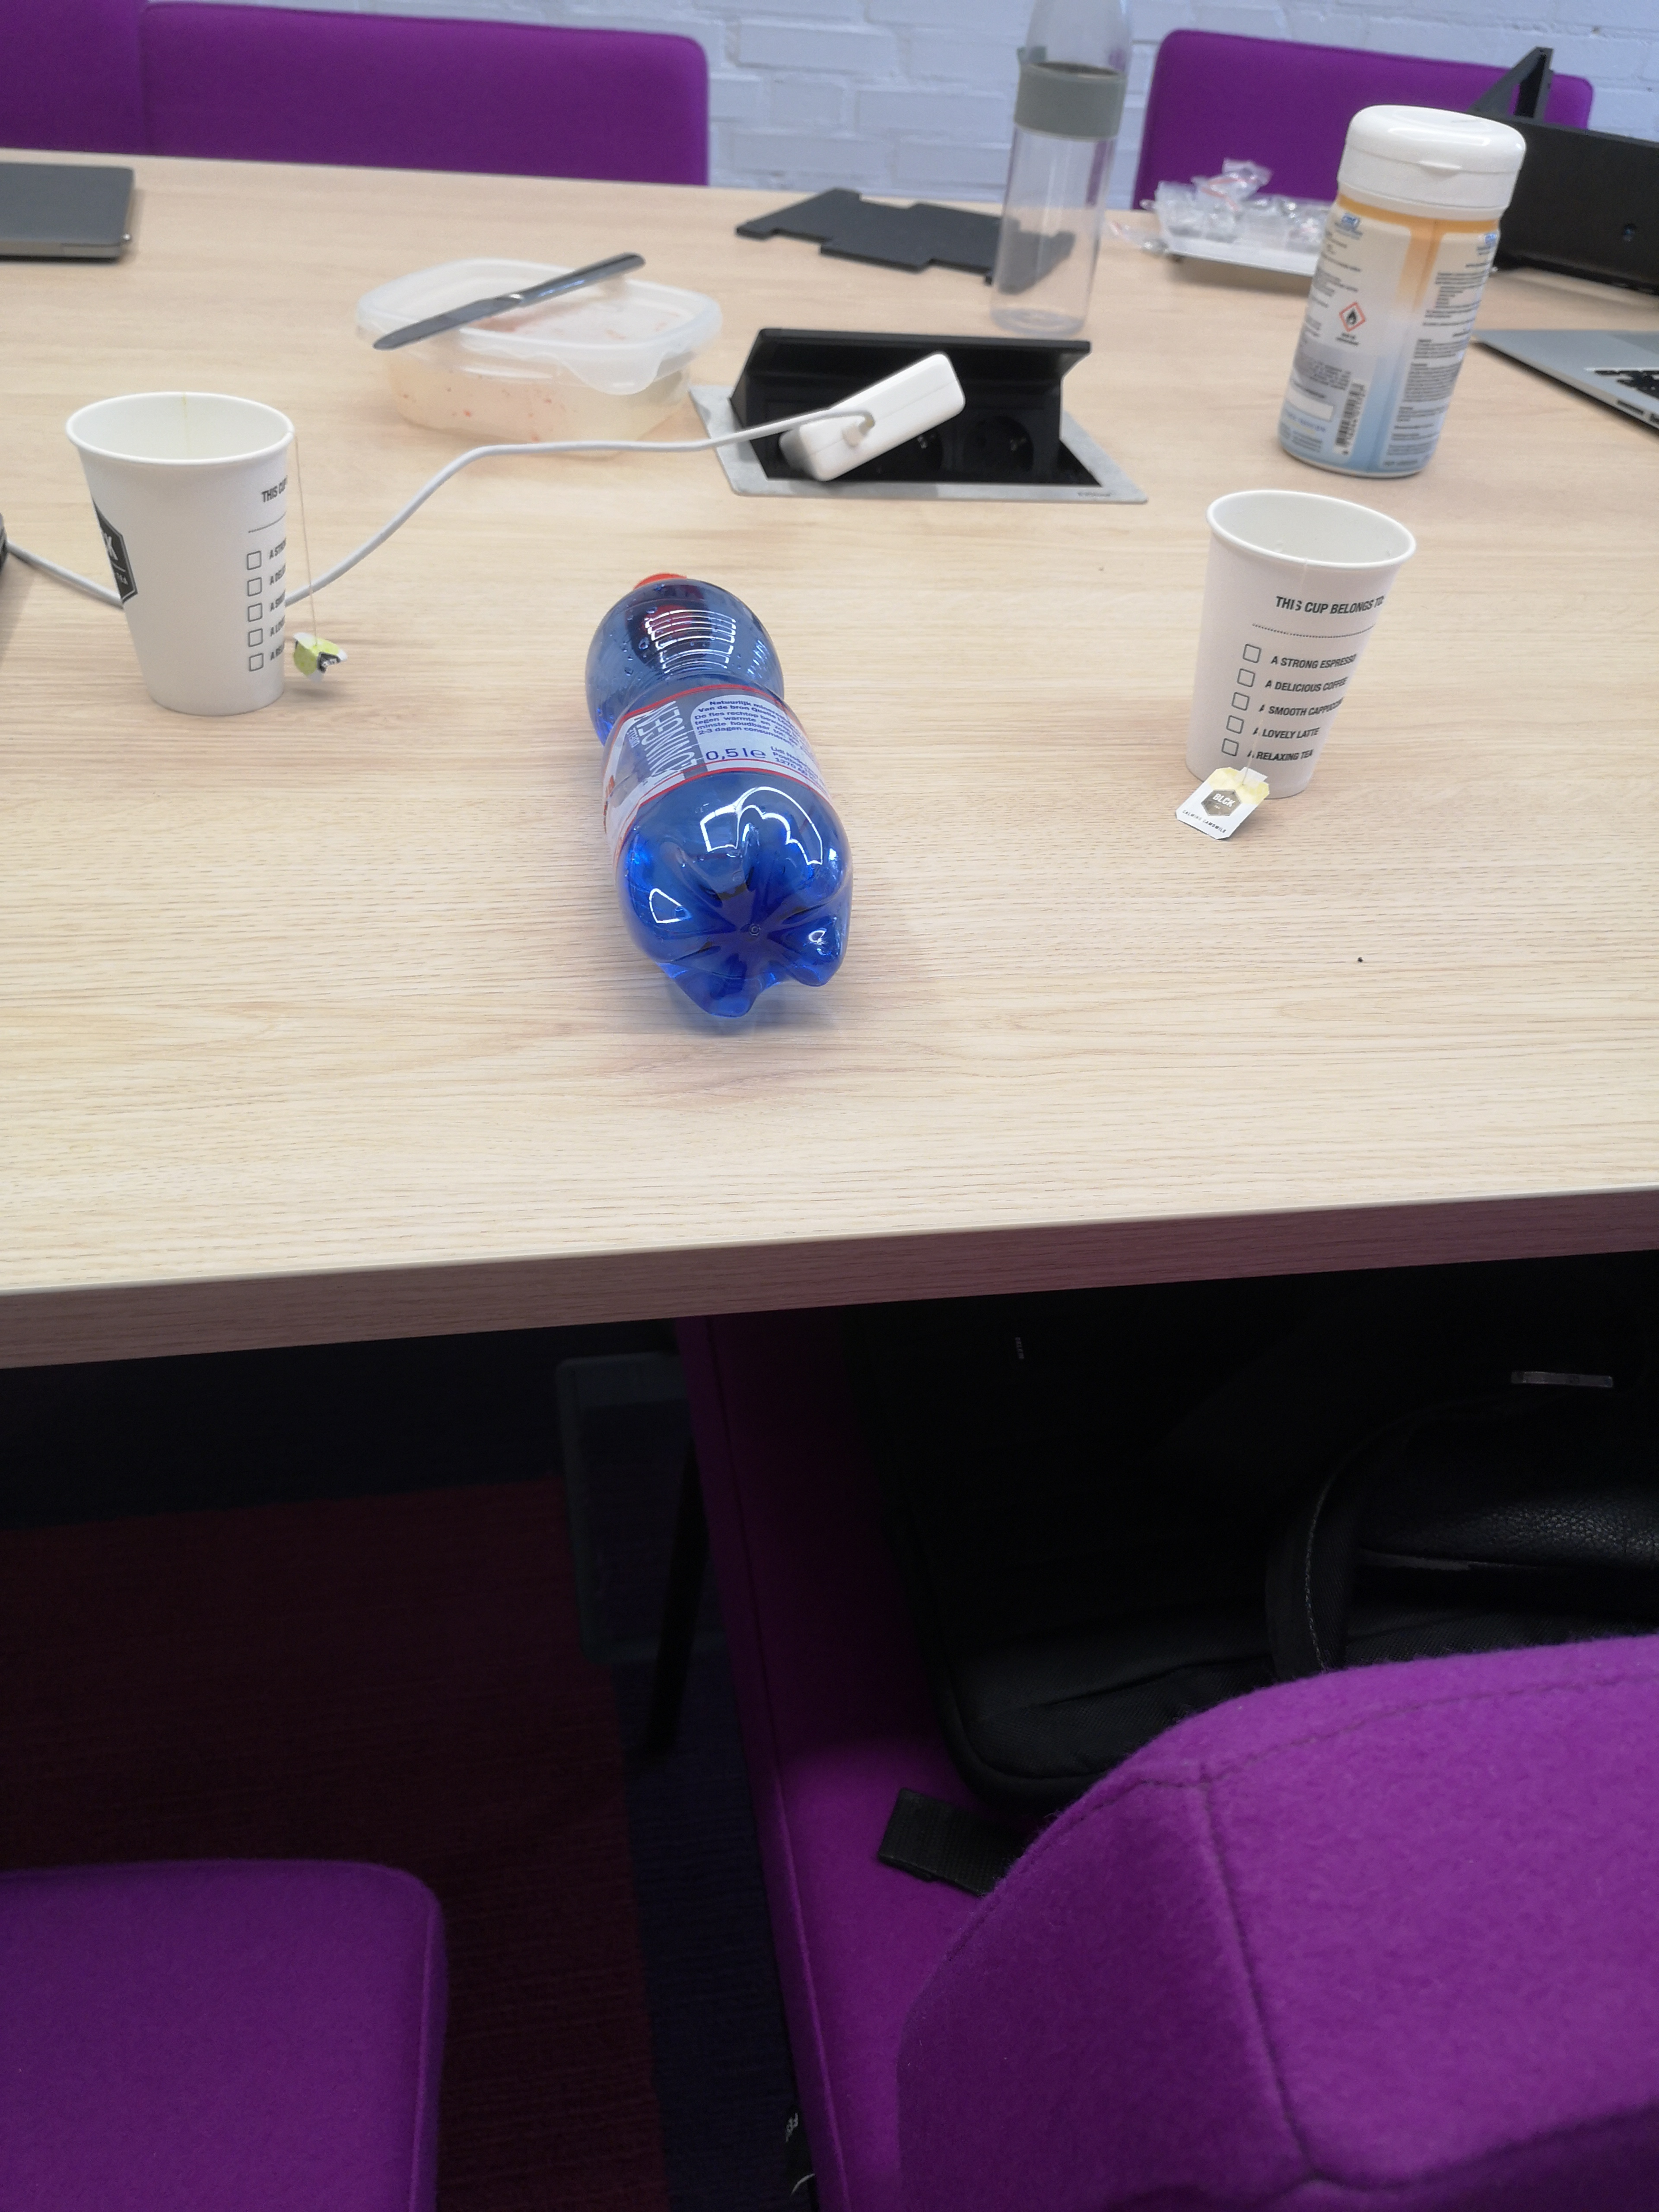cup: (52, 364, 328, 749), (1155, 469, 1429, 827)
plastic_bottle: (540, 547, 913, 1050)
